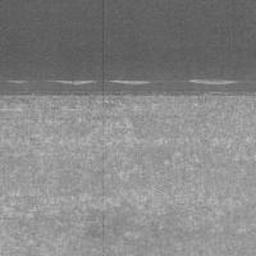Welding line: (0, 87, 256, 99)
